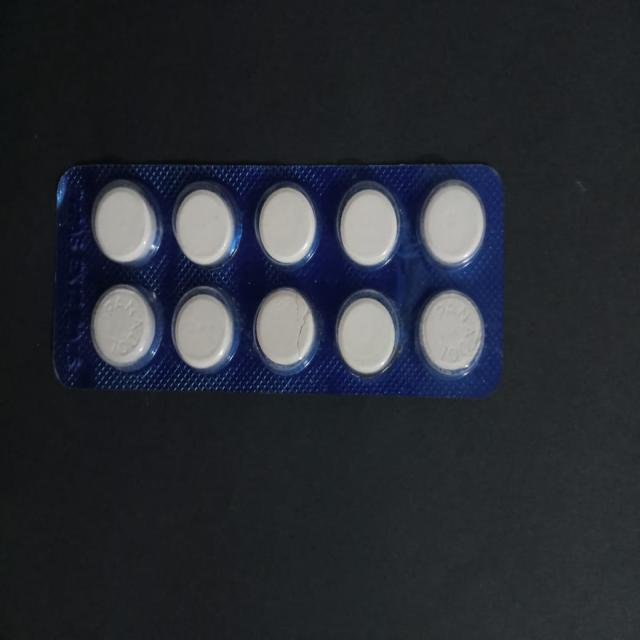defect: (250, 284, 320, 375)
